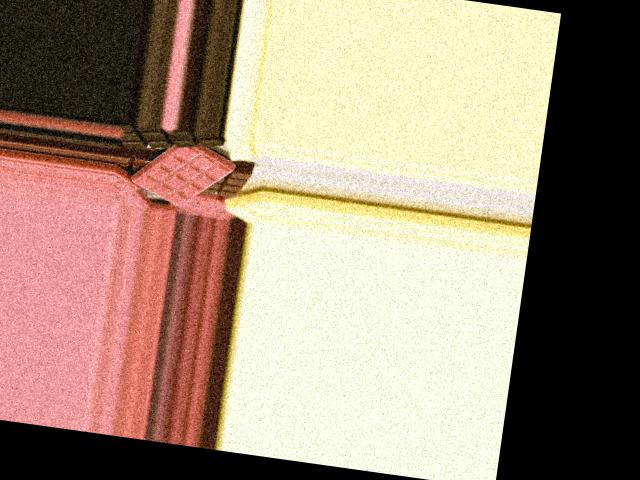chocolate: (127, 123, 237, 215)
